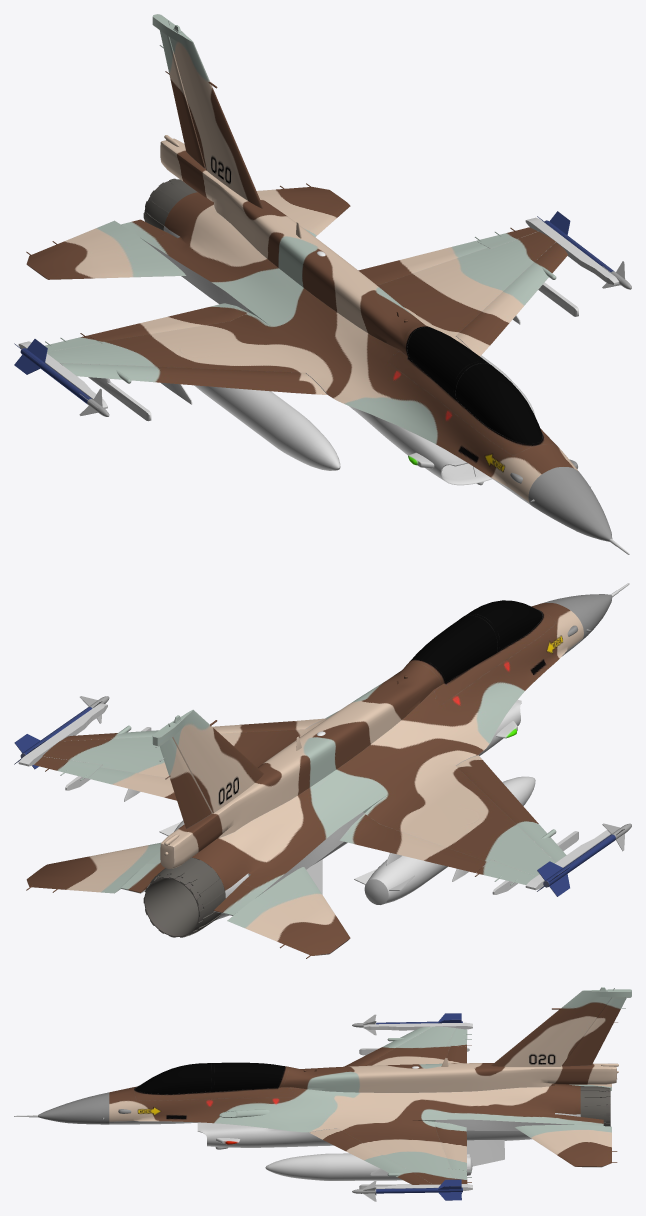
3 renders of one model, top to bottom at view 1: azimuth 30°, elevation 25°; view 2: azimuth 150°, elevation 25°; view 3: azimuth 270°, elevation 25°, orthographic. The views are drawn at different scales.
Parts seen in each view (by area): view 1: Fuselage, CanopyGlass, ElevatorR, Tail, Tank, SlatR, Nose, SlatL, Canopy, ElevatorL, AIM-9, FlapR (+6 smaller); view 2: Fuselage, ElevatorR, Tail, CanopyGlass, ElevatorL, Tank, FlapR, Exhaust, SlatR, AIM-9, Canopy, Nozzles (+10 smaller); view 3: Fuselage, Tail, CanopyGlass, ElevatorL, Tank, SlatL, Rudder, Canopy, Nose, AIM-9, FlapL, Nozzles (+4 smaller).
Boxes of the visible parts, <box> form: Fuselage: <box>47,135,578,504</box>; CanopyGlass: <box>407,327,542,443</box>; ElevatorR: <box>26,220,186,279</box>; Tail: <box>152,14,263,208</box>; Tank: <box>194,355,534,470</box>; SlatR: <box>60,363,326,394</box>; Nose: <box>528,467,629,554</box>; SlatL: <box>456,242,567,356</box>; Canopy: <box>388,325,555,455</box>; ElevatorL: <box>256,183,350,236</box>; AIM-9: <box>14,211,631,416</box>; FlapR: <box>88,303,248,342</box>; Fuselage: <box>42,603,583,920</box>; ElevatorR: <box>227,867,350,958</box>; Tail: <box>152,709,263,813</box>; CanopyGlass: <box>411,600,542,681</box>; ElevatorL: <box>26,842,160,893</box>; Tank: <box>159,776,535,904</box>; FlapR: <box>339,813,487,872</box>; Exhaust: <box>144,858,224,936</box>; SlatR: <box>456,755,566,862</box>; AIM-9: <box>14,696,631,896</box>; Canopy: <box>407,609,555,705</box>; Nozzles: <box>143,857,225,937</box>; Fuselage: <box>109,1026,618,1184</box>; Tail: <box>491,987,631,1066</box>; CanopyGlass: <box>136,1062,283,1094</box>; ElevatorL: <box>515,1125,617,1167</box>; Tank: <box>265,1153,472,1180</box>; SlatL: <box>309,1128,432,1184</box>; Rudder: <box>562,997,631,1066</box>; Canopy: <box>134,1063,294,1100</box>; Nose: <box>14,1092,109,1124</box>; AIM-9: <box>352,1013,462,1201</box>; FlapL: <box>434,1122,466,1170</box>; Nozzles: <box>580,1086,610,1126</box>.
Bounding box in the file's own units: 10.55 × 4.83 × 15.92.
Materials: 2 (1 with a texture image).
